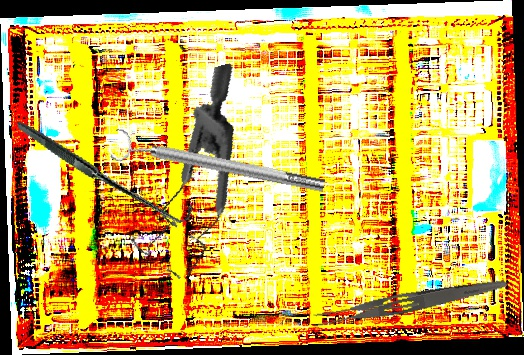Dressing Forceps: (309, 269, 510, 333)
Fixation Ring: (109, 125, 328, 205)
Hook Surgical: (16, 77, 196, 263)
Speculum: (93, 62, 282, 289)
